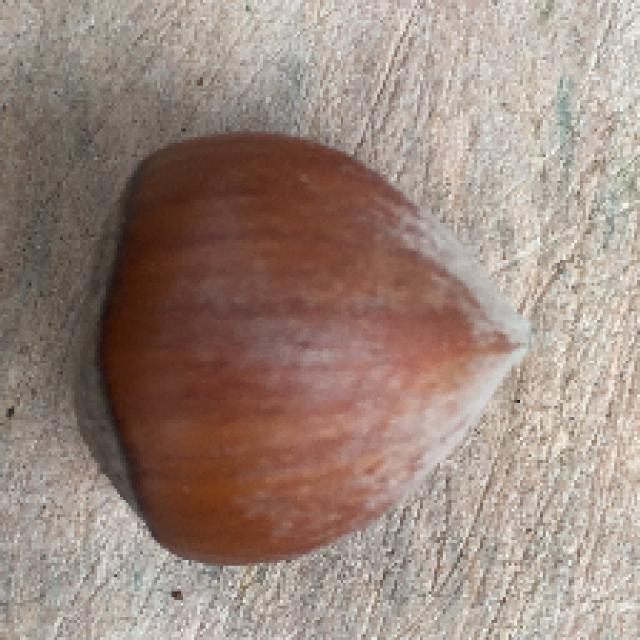qualityHazelnut: (49, 121, 534, 580)
